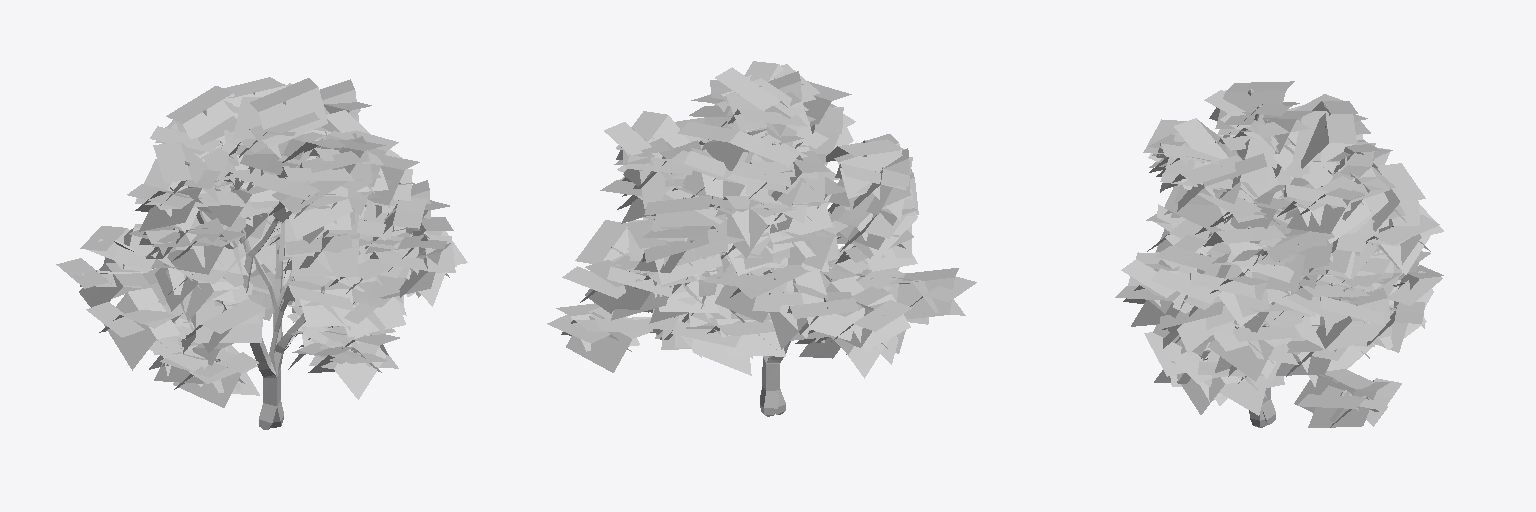
Rendered from Tree3.obj.
3 views of the same model, side by side, from view 1: azimuth 30°, elevation 25°; view 2: azimuth 150°, elevation 25°; view 3: azimuth 270°, elevation 25° (orthographic).
Parts seen in each view (by area): view 1: Wallnut_; view 2: Wallnut_; view 3: Wallnut_.
Part boxes in pixels (left/top/right/bottom): Wallnut_: left=56, top=77, right=467, bottom=429; Wallnut_: left=547, top=61, right=976, bottom=416; Wallnut_: left=1115, top=81, right=1443, bottom=427.
Bounding box in the file's own units: 39.32 × 35.74 × 32.14.